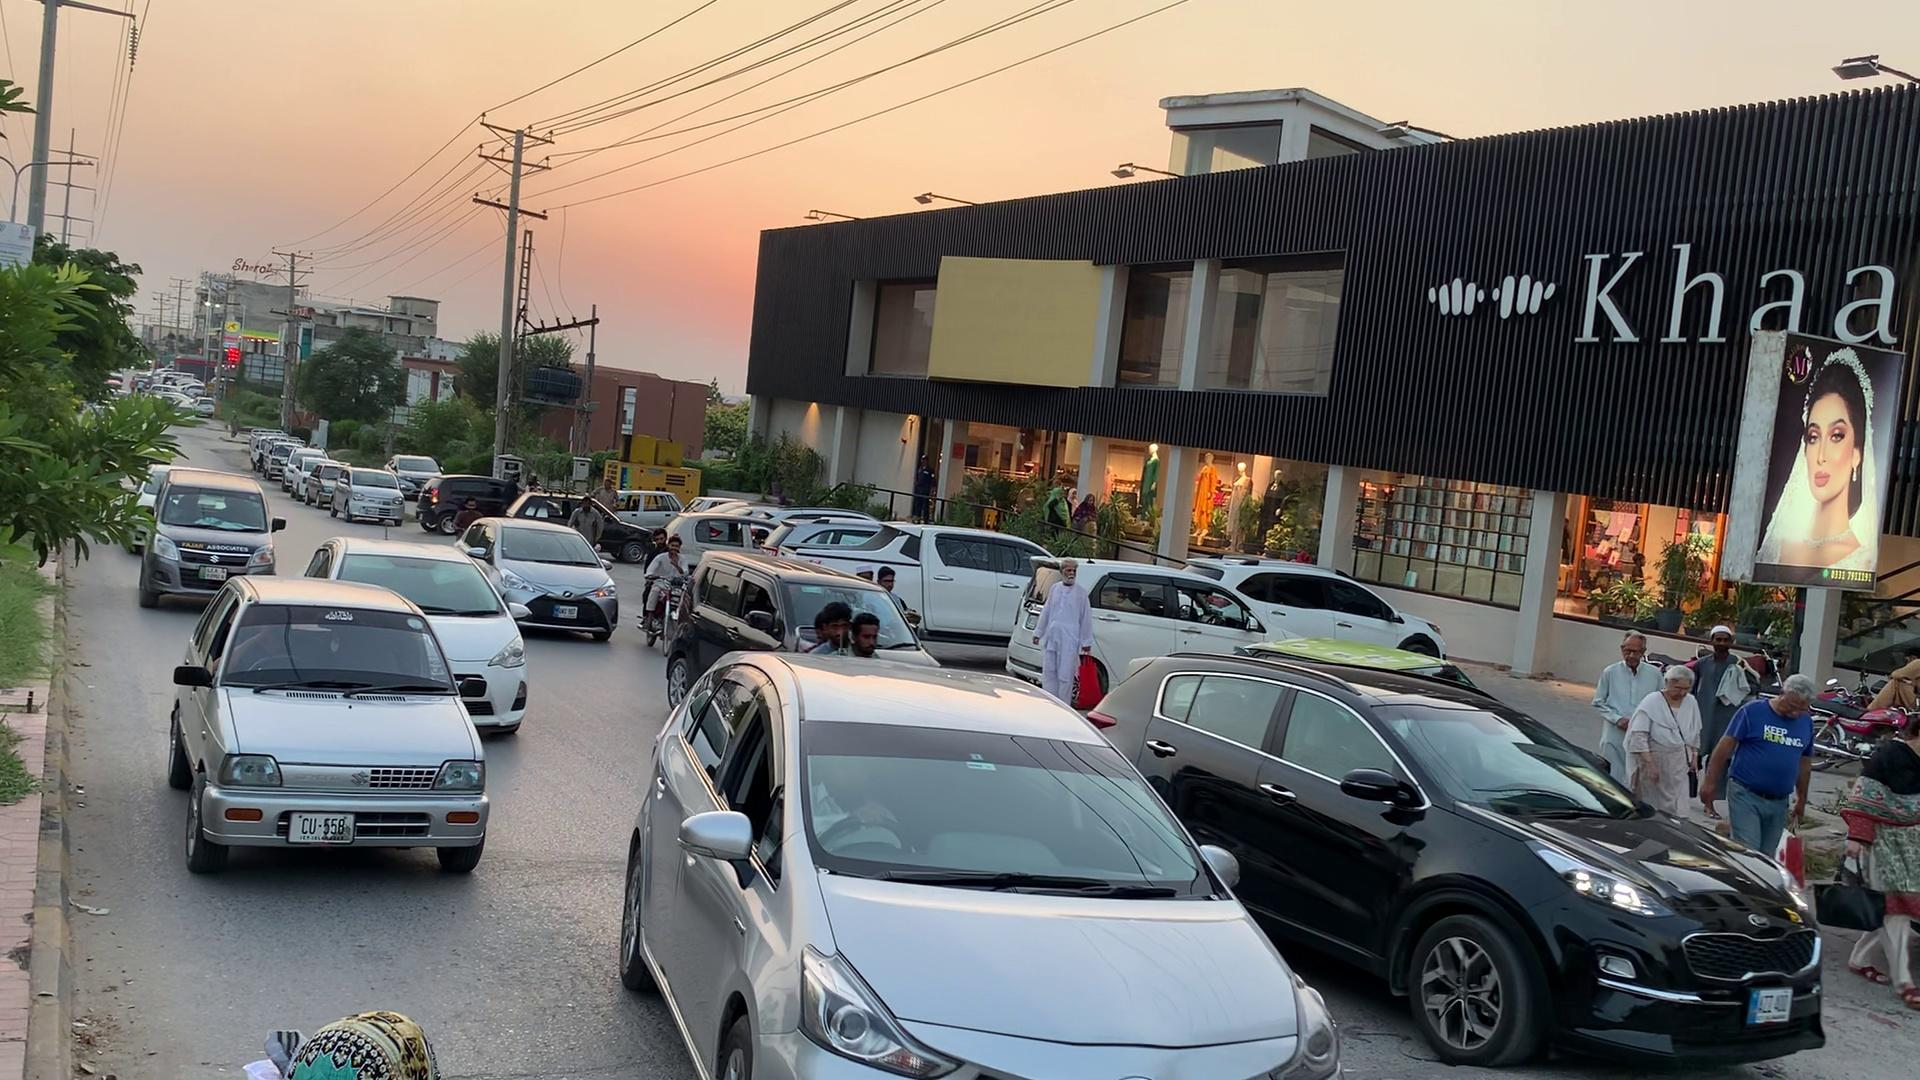windshield: (800, 700, 1237, 914), (1348, 680, 1671, 820), (214, 576, 460, 707)
